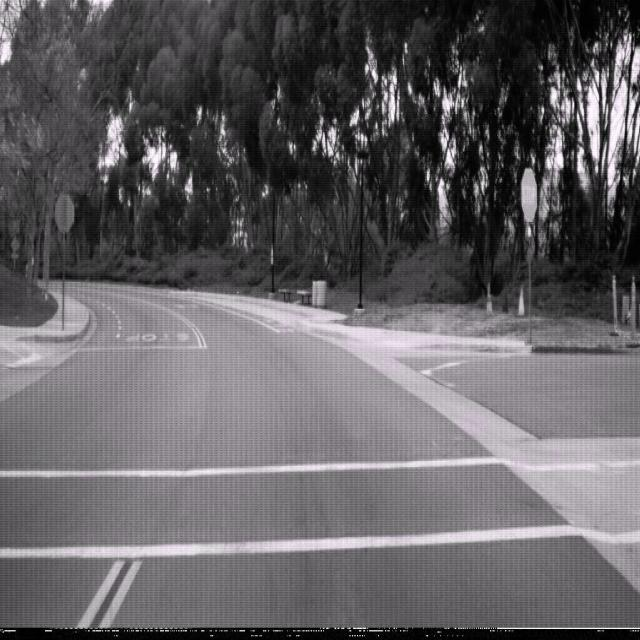stop_sign: (520, 167, 538, 223)
